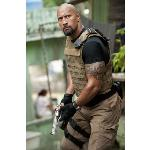Pistol: (47, 105, 77, 137)
